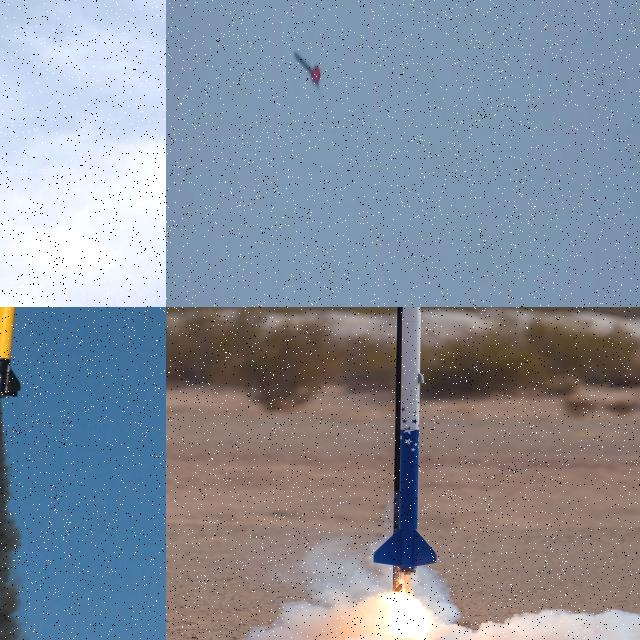Rocket: (371, 307, 439, 574), (0, 307, 24, 398), (294, 50, 320, 84)
